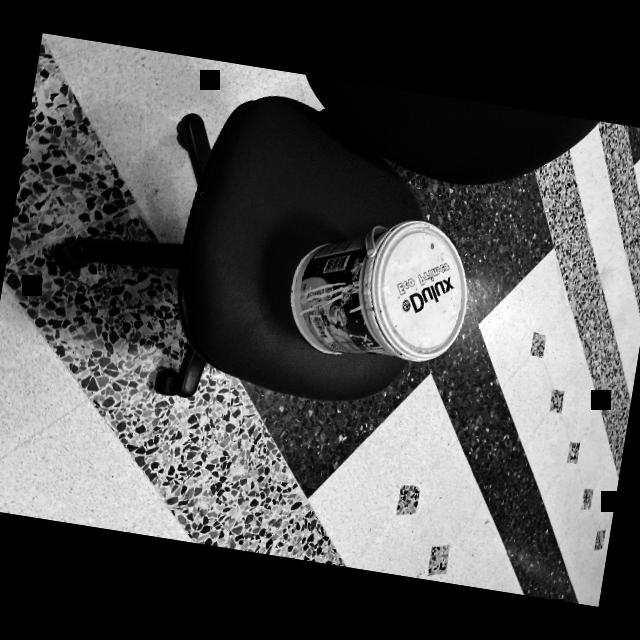cardboard_box: (274, 196, 495, 386)
